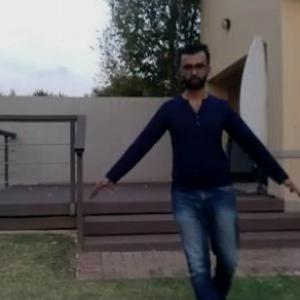land: (115, 47, 292, 298)
